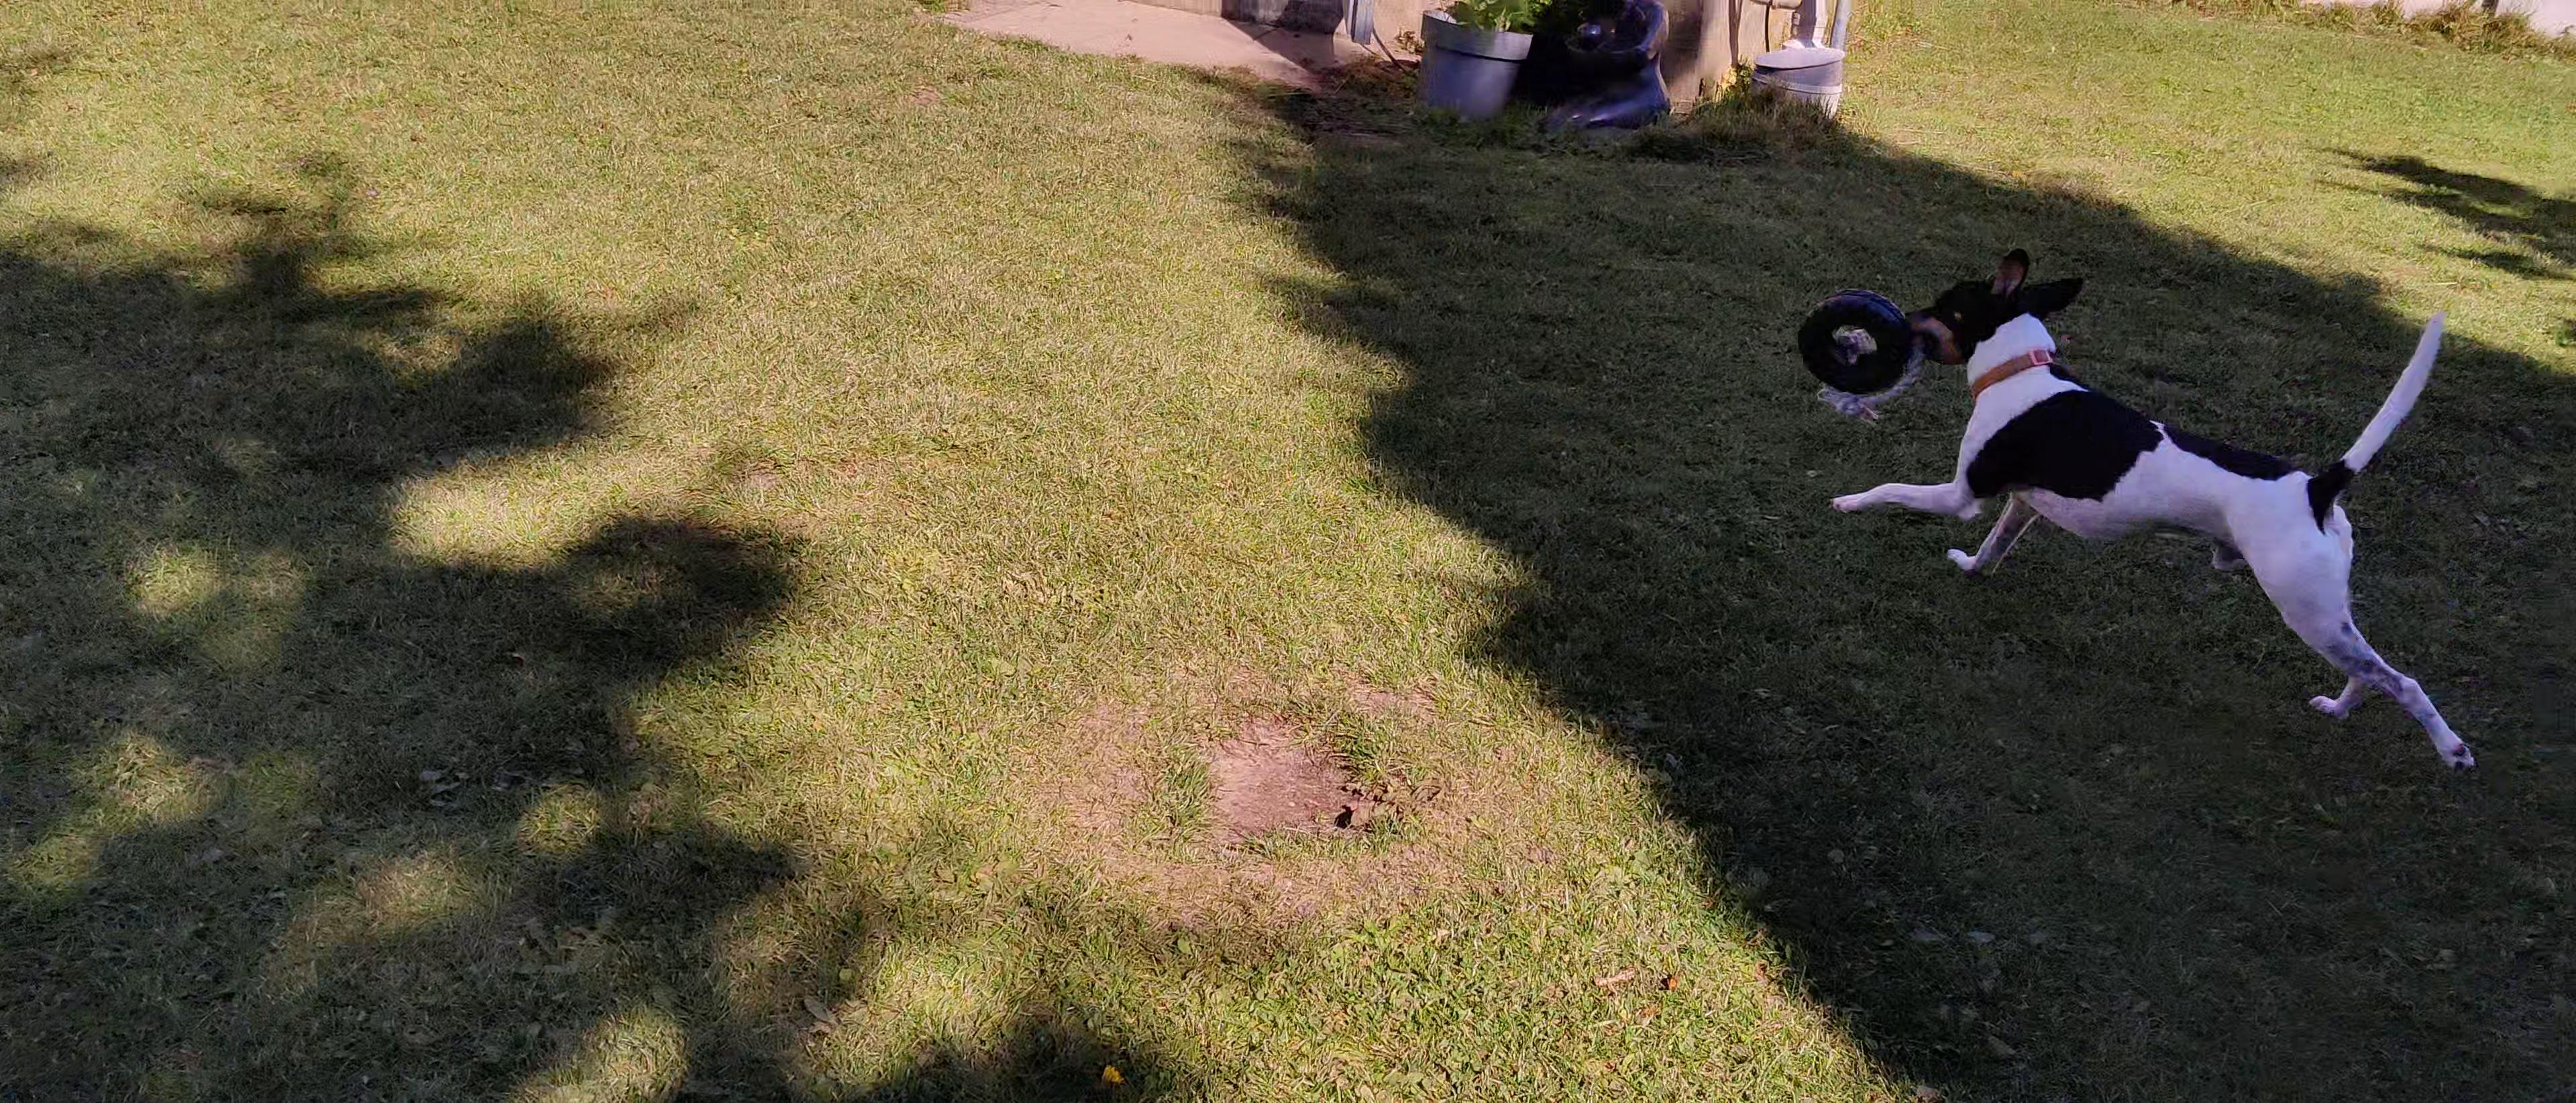Dog: (1815, 245, 2486, 791)
